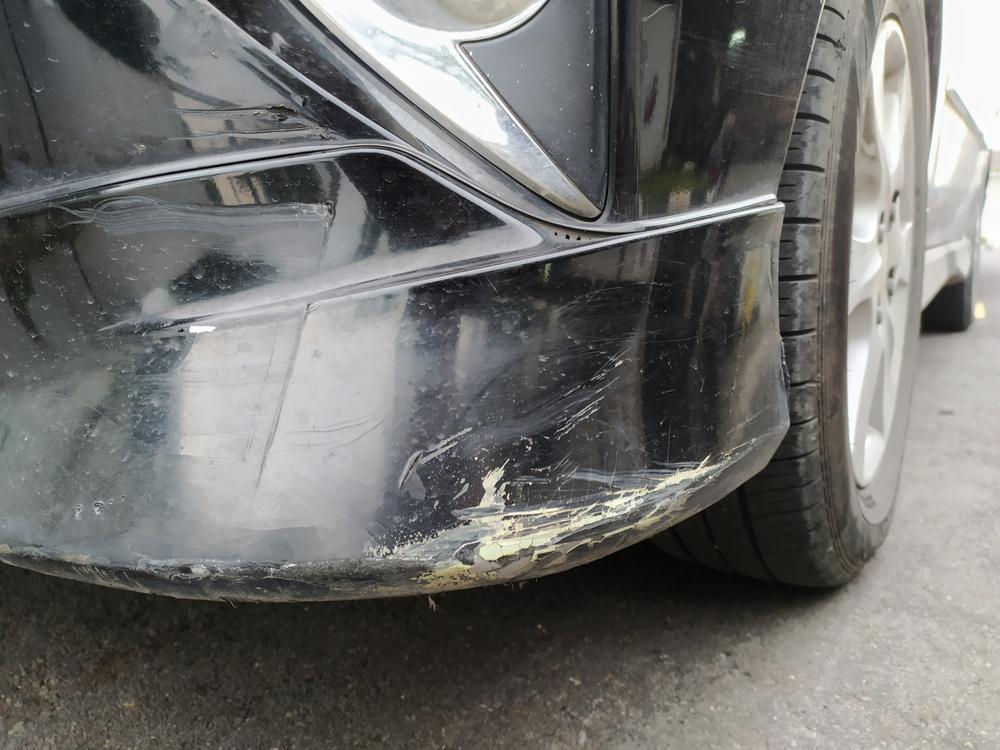scratch: (0, 360, 782, 600), (61, 97, 349, 264)
